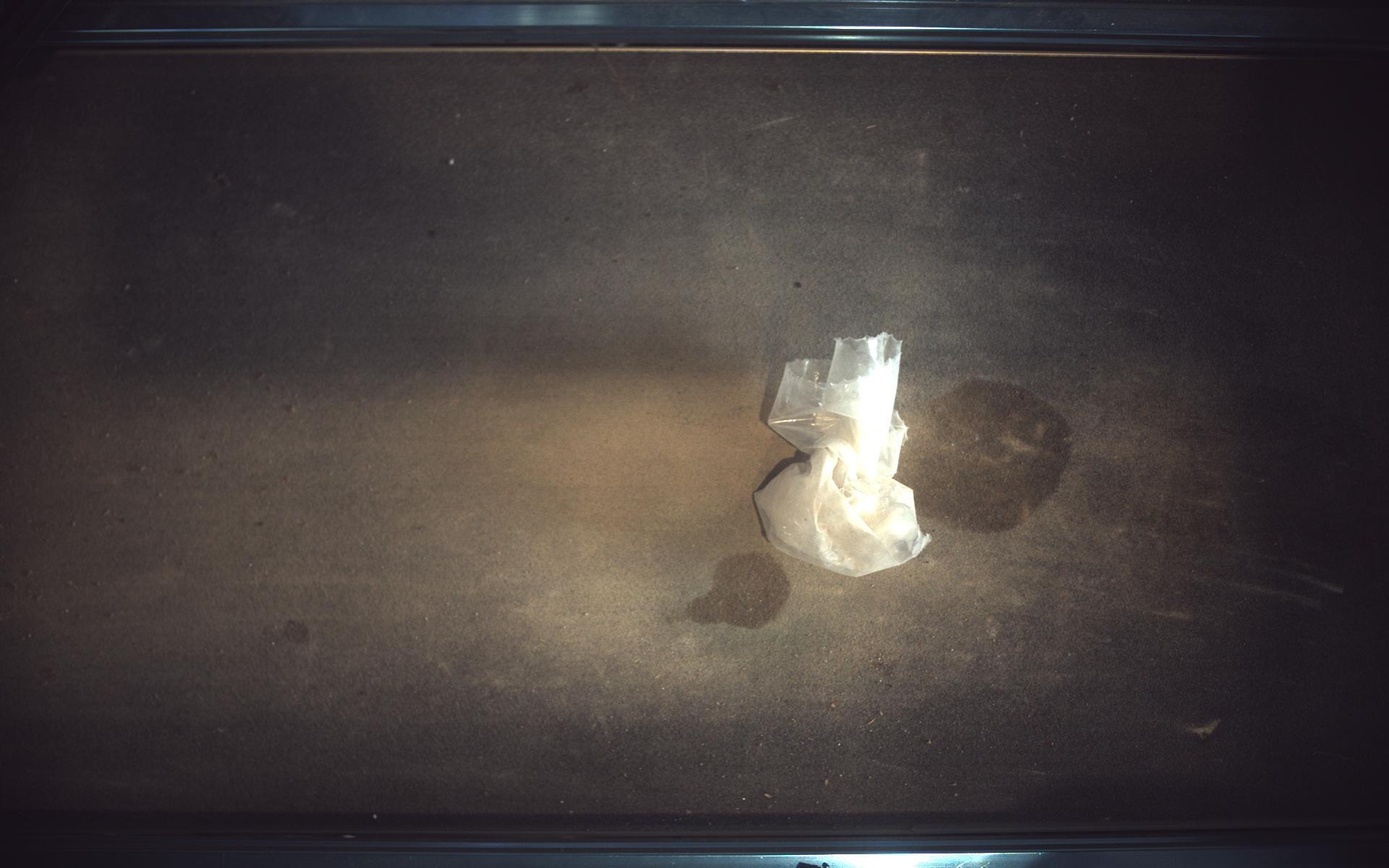general_w: (755, 333, 933, 577)
